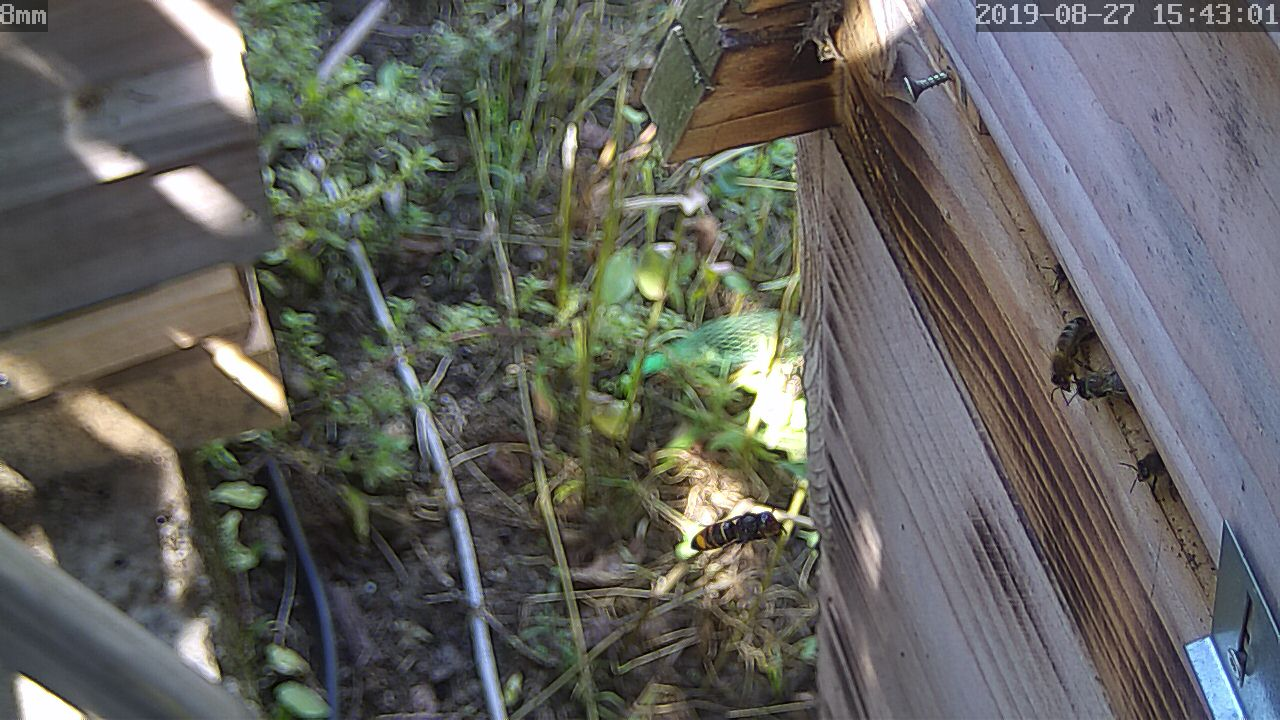bee: (1035, 304, 1097, 396), (1078, 364, 1131, 414)
hornet: (682, 494, 792, 567)
